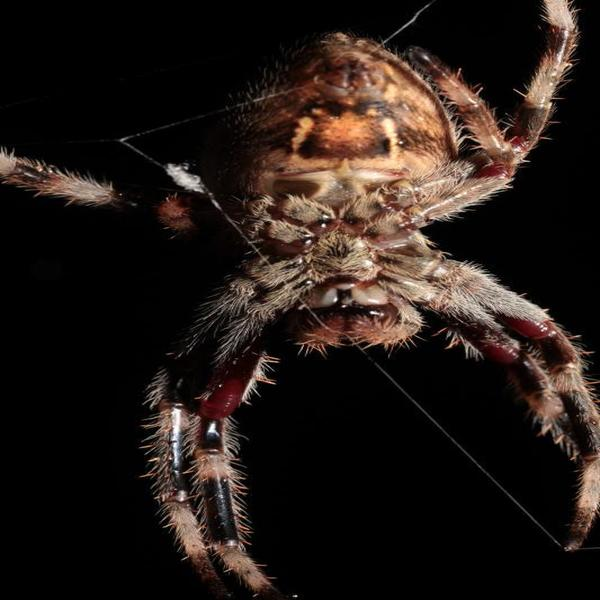Garden Orb Weaver Spider: (28, 26, 591, 566)
